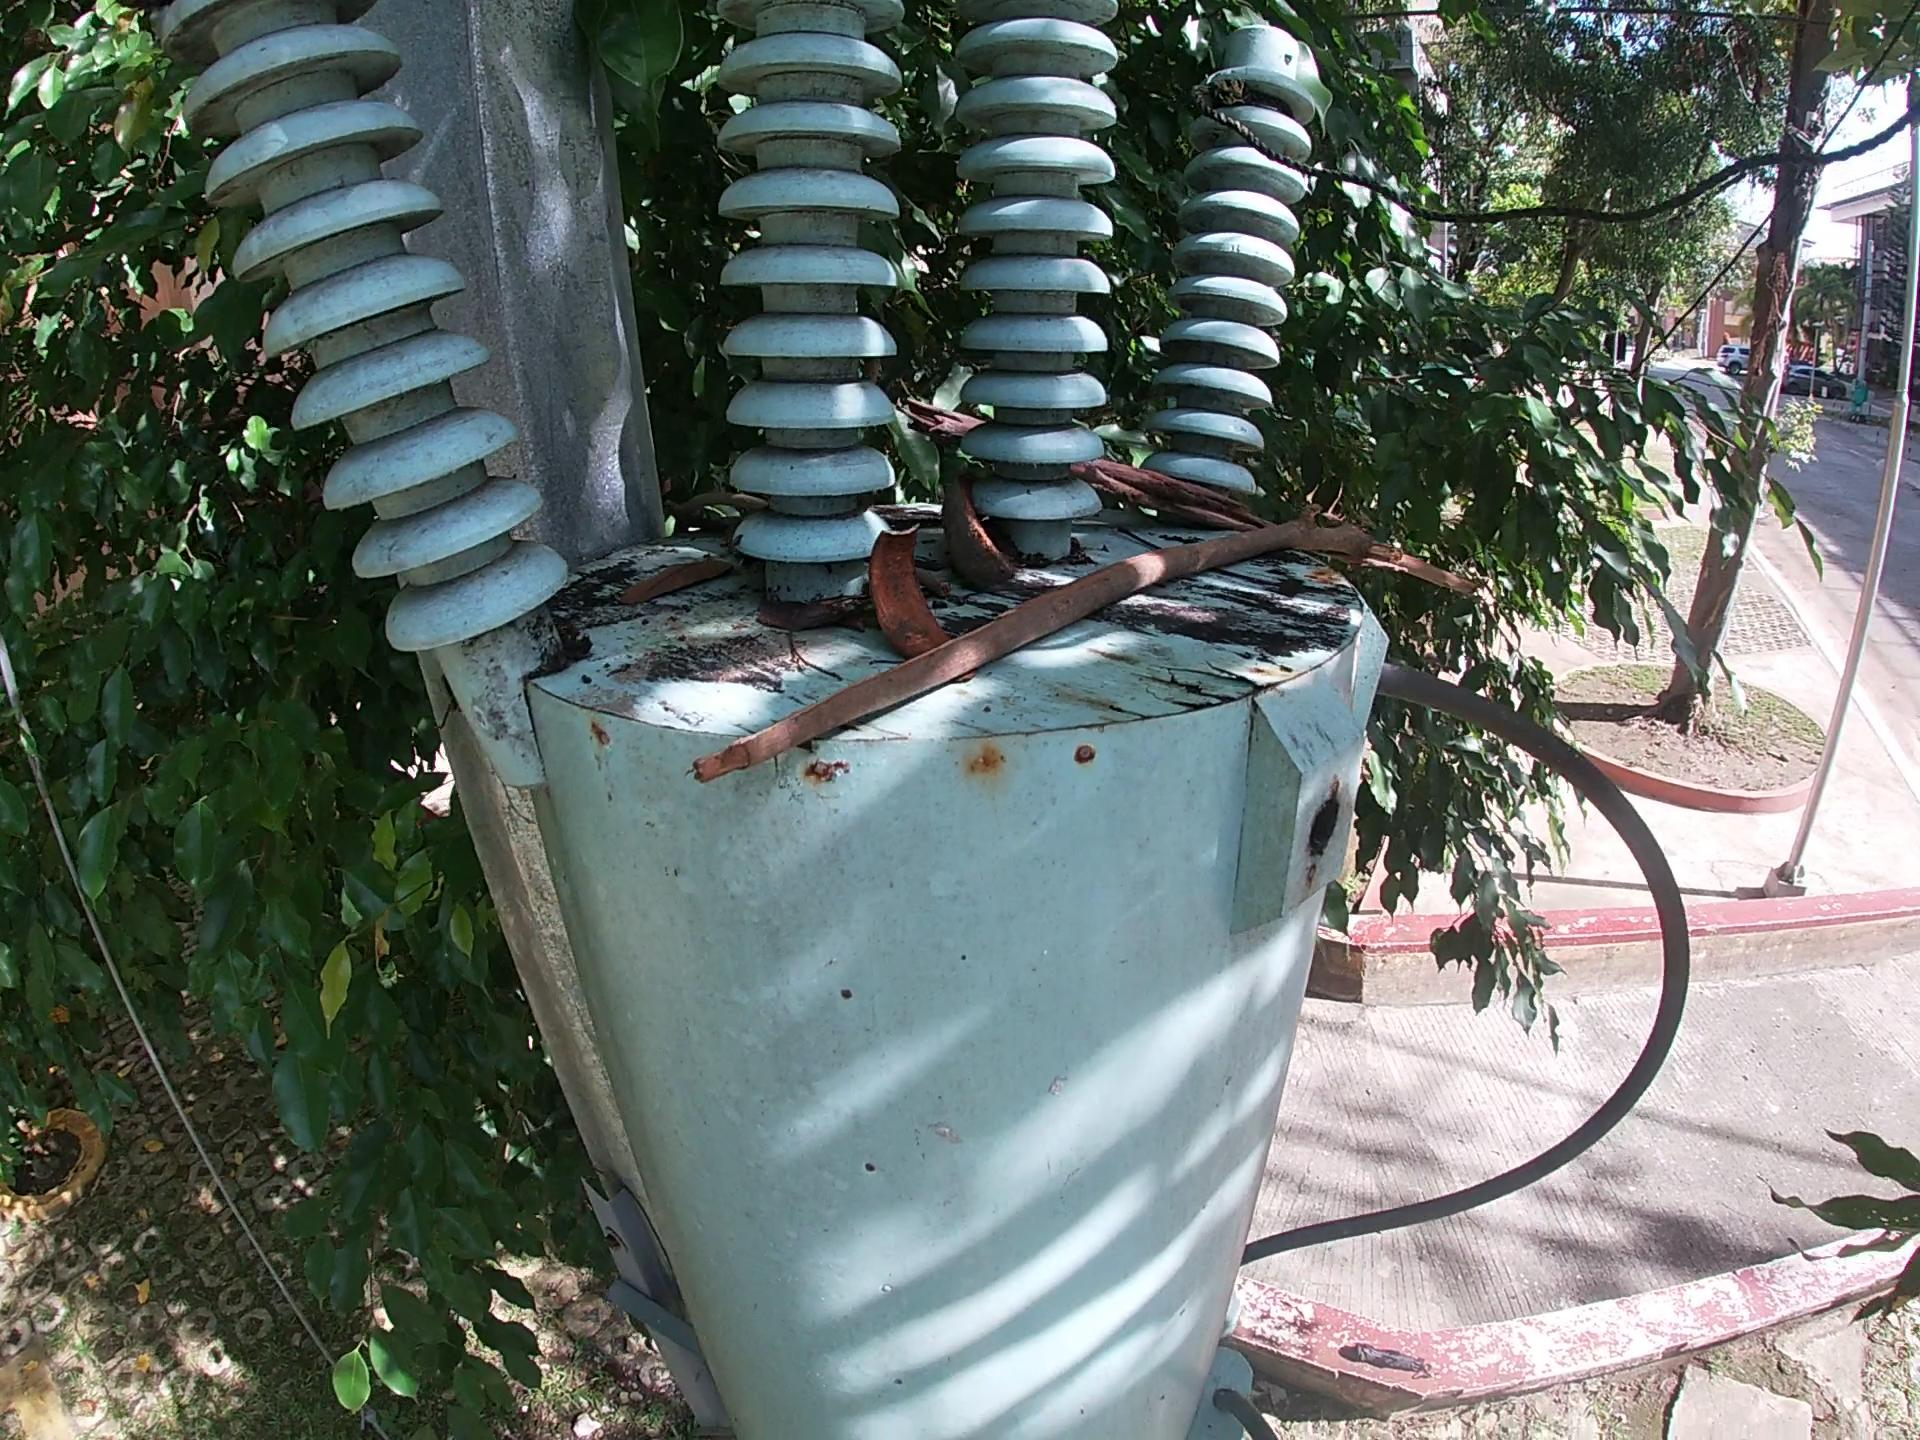leaf: (599, 551, 739, 619)
mahogany fruit: (857, 516, 958, 656), (937, 470, 1028, 594)
tree branch: (680, 492, 1491, 790), (898, 389, 1279, 535), (665, 486, 765, 542)
